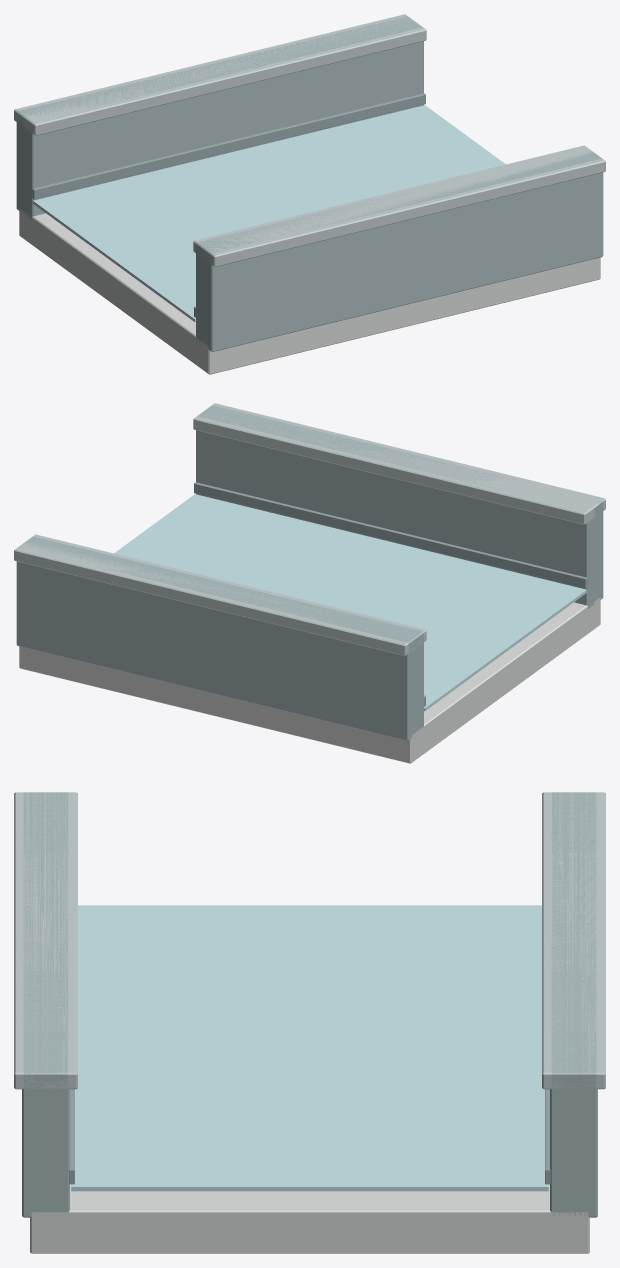
File: Structure-SewerChannel.fbx
3 views of the same model, one above another, from view 1: azimuth 30°, elevation 25°; view 2: azimuth 150°, elevation 25°; view 3: azimuth 270°, elevation 25° (orthographic). The views are drawn at different scales.
Parts seen in each view (by area): view 1: Channel Side, Flow Water Surface, Channel Side.001, Channel Floor, Coping, Coping.001, Low Waterline.001; view 2: Channel Side.001, Flow Water Surface, Channel Side, Channel Floor, Coping, Coping.001, Low Waterline; view 3: Flow Water Surface, Channel Floor, Channel Side.001, Channel Side, Coping, Coping.001.
Part boxes in pixels (bbox=[...]): Channel Side: bbox=[196, 151, 603, 351]; Flow Water Surface: bbox=[33, 105, 505, 322]; Channel Side.001: bbox=[16, 16, 423, 219]; Channel Floor: bbox=[19, 208, 600, 374]; Coping: bbox=[193, 145, 605, 266]; Coping.001: bbox=[14, 14, 426, 135]; Low Waterline.001: bbox=[32, 93, 425, 199]; Channel Side.001: bbox=[16, 536, 423, 740]; Flow Water Surface: bbox=[114, 494, 586, 711]; Channel Side: bbox=[196, 405, 603, 608]; Channel Floor: bbox=[19, 597, 600, 763]; Coping: bbox=[193, 403, 605, 524]; Coping.001: bbox=[14, 534, 426, 655]; Low Waterline: bbox=[194, 482, 587, 588]; Flow Water Surface: bbox=[71, 905, 548, 1191]; Channel Floor: bbox=[30, 1184, 589, 1253]; Channel Side.001: bbox=[550, 792, 597, 1217]; Channel Side: bbox=[22, 792, 69, 1217]; Coping: bbox=[14, 792, 77, 1089]; Coping.001: bbox=[542, 792, 605, 1089].
Size of the model in its own units: 2.5 by 0.75 by 2.22.
